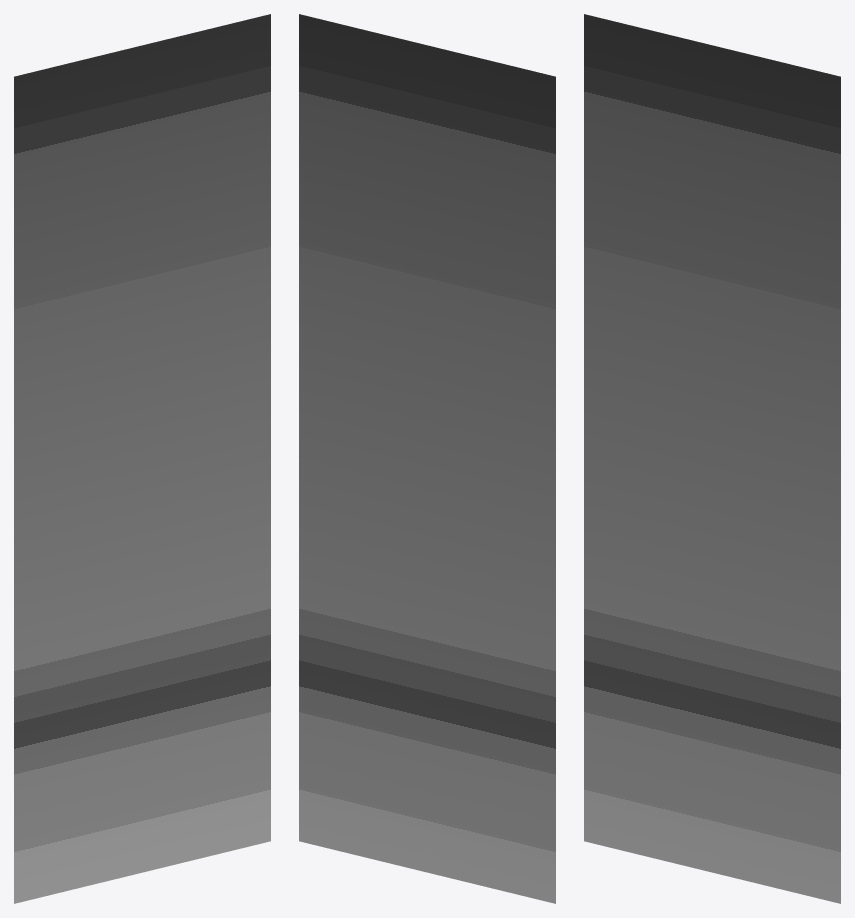
3 renders of one model, left to right at view 1: azimuth 30°, elevation 25°; view 2: azimuth 150°, elevation 25°; view 3: azimuth 330°, elevation 25°, orthographic.
Bounding box in the file's own units: 0.8125 × 2.5 × 0.
1 material, 1 textured.
